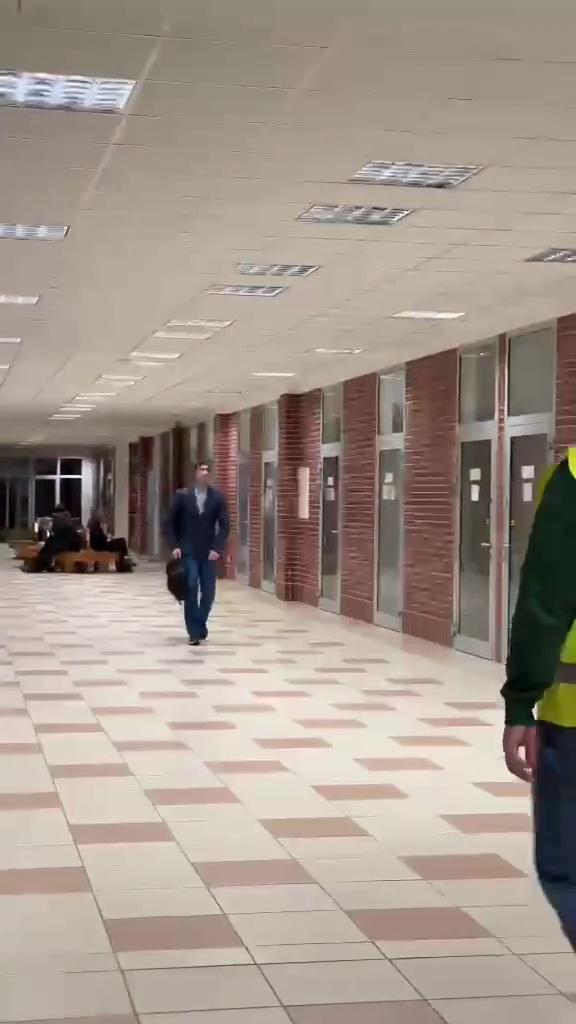no vest: (159, 455, 239, 640)
vest: (498, 439, 576, 971)
